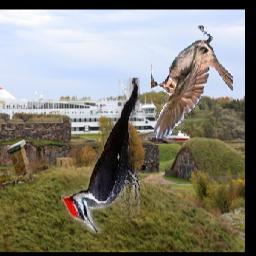Sparrow: (151, 27, 233, 139)
Woodpecker: (62, 78, 141, 233)
